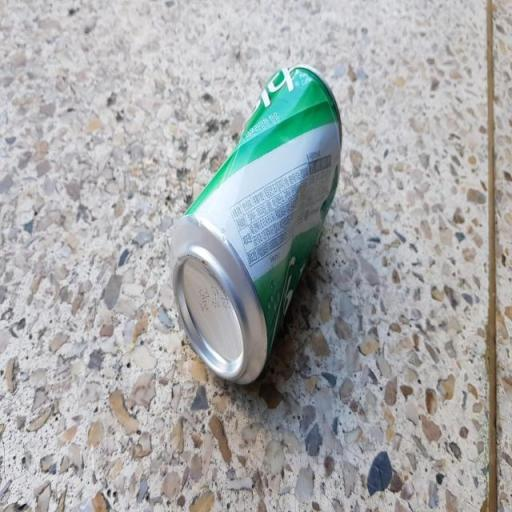metal: (156, 47, 363, 391)
